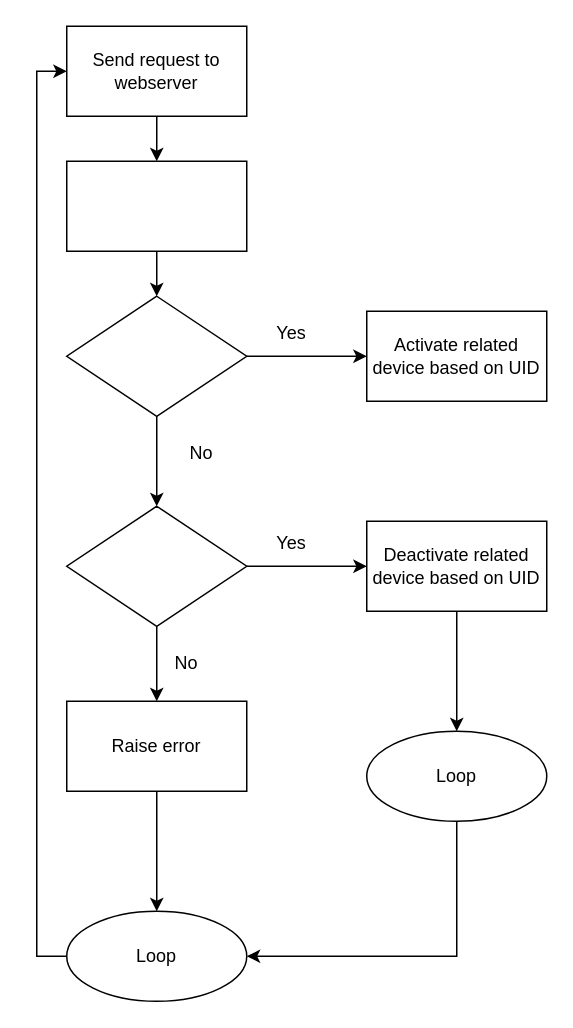
This 573x1028 diagram has some shape labels left out. The centre of each missing label's shape, as x and y in pixels:
"Action = 0?" belongs at (x=156, y=565).
"Action = 1?" belongs at (x=156, y=355).
"Check action data for each sensor" belongs at (x=156, y=205).
